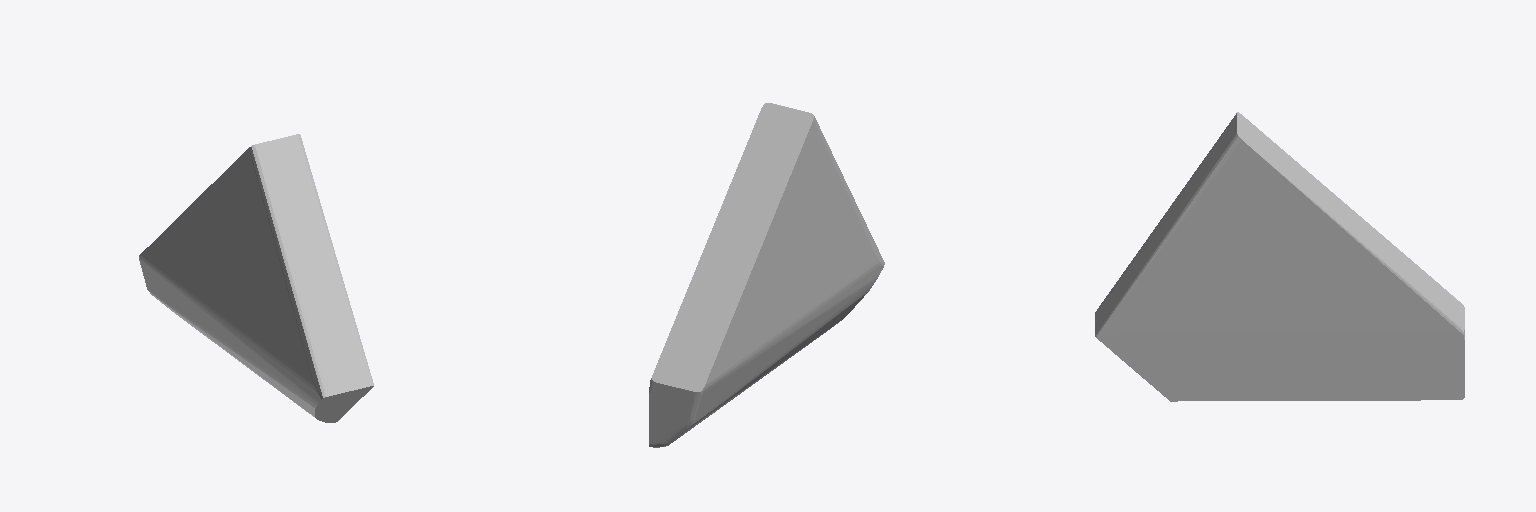
The model's file is Carbon_Mov_Finger_021_v1_1_mesh_collision_4.obj.
The picture shows the model from 3 angles: view 1: azimuth 30°, elevation 25°; view 2: azimuth 150°, elevation 25°; view 3: azimuth 270°, elevation 25°; orthographic projection.
Size of the model in its own units: 0.0033 by 0.0161 by 0.0204.